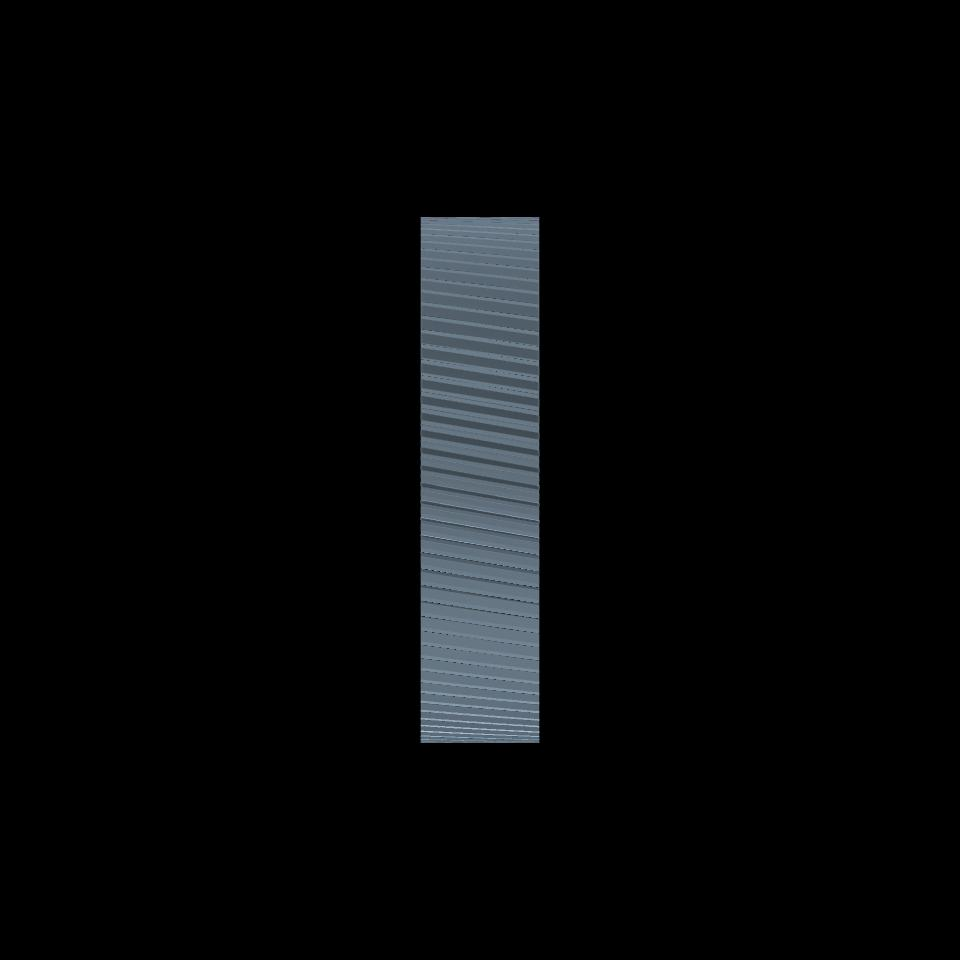Helical: (421, 216, 539, 743)
